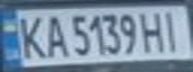1: (84, 11, 106, 56)
3: (103, 11, 124, 55)
5: (66, 11, 90, 57)
9: (118, 10, 142, 55)
A: (39, 11, 69, 60)
H: (136, 8, 169, 54)
I: (157, 8, 187, 52)
K: (12, 11, 48, 61)
